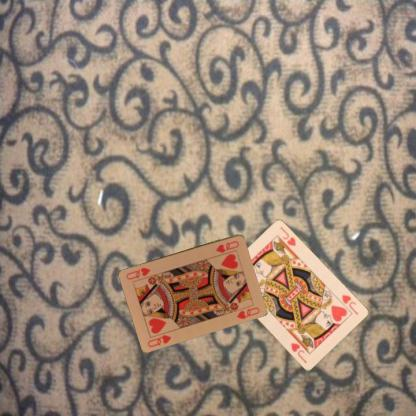Jh: (340, 292, 360, 316)
Qh: (213, 238, 240, 254), (145, 332, 172, 348)
